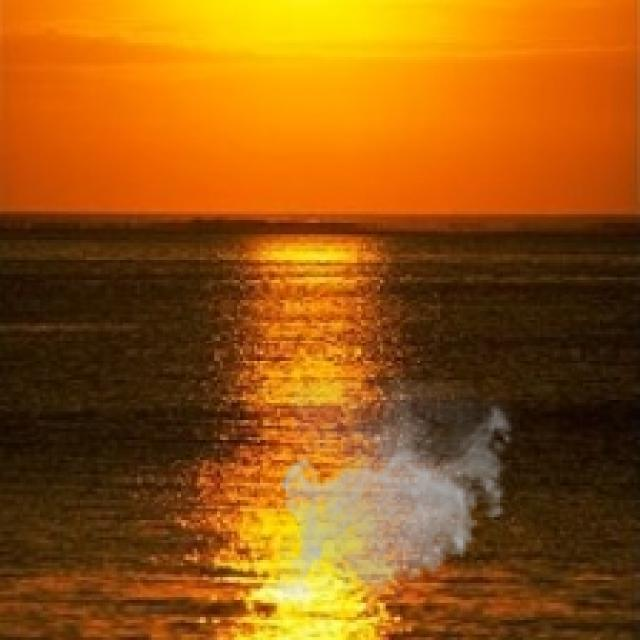smoke: (277, 380, 520, 606)
